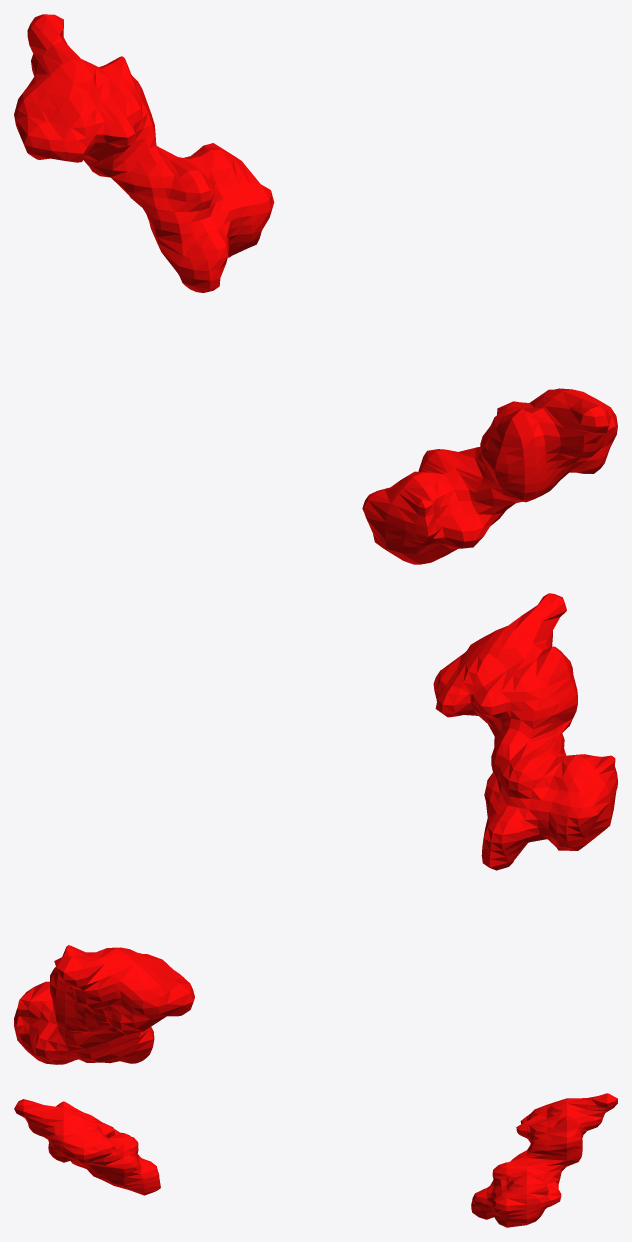
The model's file is rfaH_coarse.dae.
3 views of the same model, one above another, from view 1: azimuth 30°, elevation 25°; view 2: azimuth 150°, elevation 25°; view 3: azimuth 270°, elevation 25° (orthographic). The views are drawn at different scales.
Parts seen in each view (by area): view 1: rfaH; view 2: rfaH; view 3: rfaH.
Part boxes in pixels (<box>): rfaH: <box>14,14,617,564</box>; rfaH: <box>14,593,617,1064</box>; rfaH: <box>14,1093,617,1227</box>.
Bounding box in the file's own units: 91.55 × 69.53 × 337.
